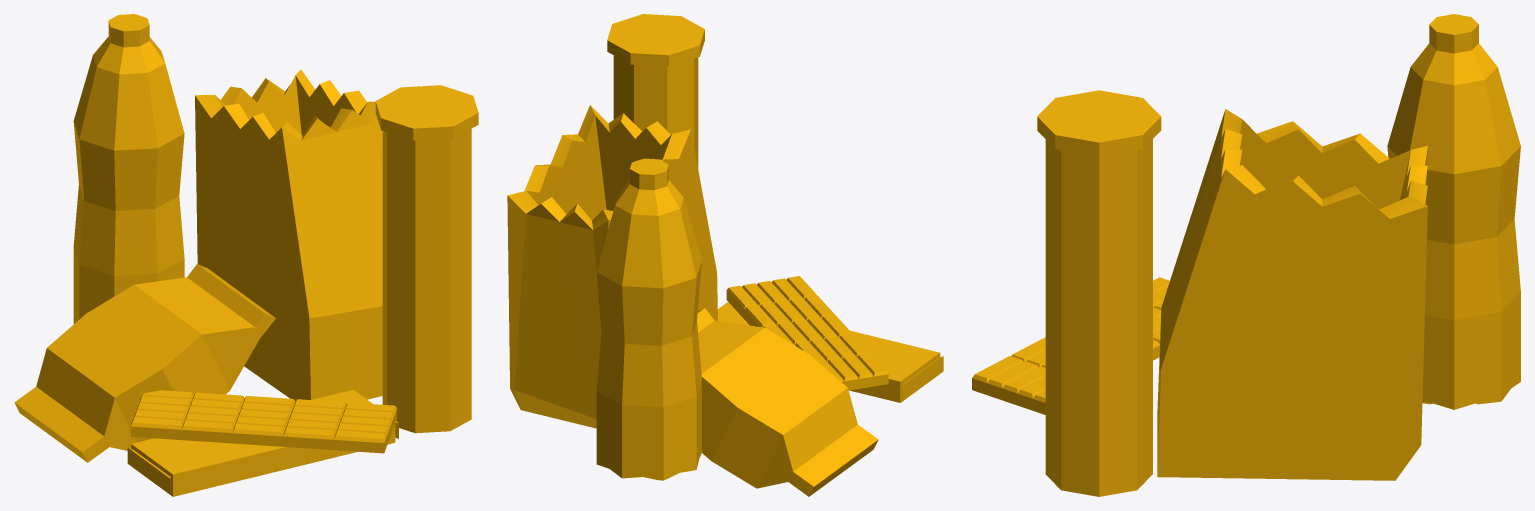
Rendered from The snacks.fbx.
3 renders of one model, left to right at view 1: azimuth 30°, elevation 25°; view 2: azimuth 150°, elevation 25°; view 3: azimuth 270°, elevation 25°, orthographic. The views are drawn at different scales.
Parts seen in each view (by area): view 1: Cube.011; view 2: Cube.011; view 3: Cube.011.
Part boxes in pixels (bbox=[...]): Cube.011: bbox=[14, 14, 478, 496]; Cube.011: bbox=[507, 14, 943, 496]; Cube.011: bbox=[972, 14, 1520, 496].
Size of the model in its own units: 387 by 375 by 472.
